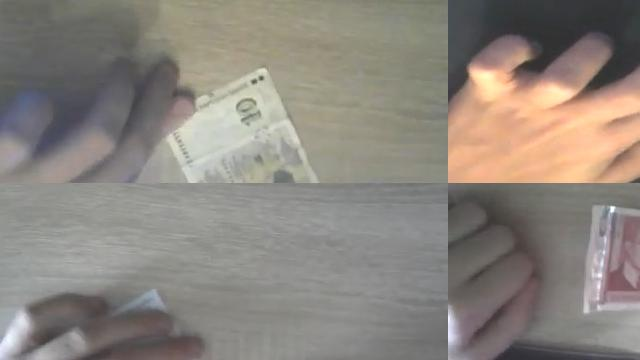10leva: (166, 66, 321, 183)
5leva: (583, 203, 640, 311)
